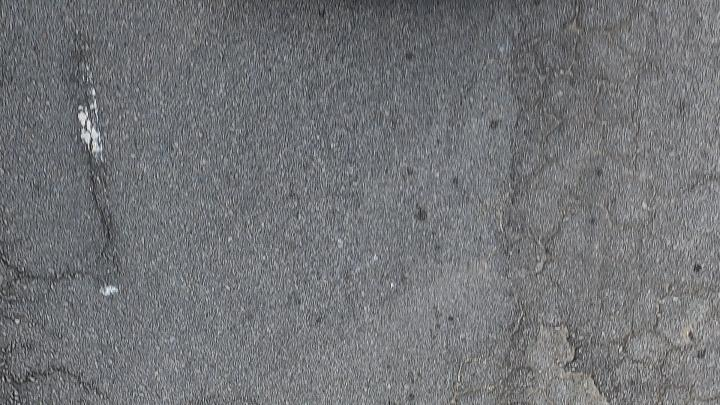Crack: (0, 34, 120, 394), (0, 37, 112, 385), (528, 0, 594, 171), (600, 301, 660, 405), (528, 200, 576, 324), (532, 206, 575, 322), (535, 1, 592, 85), (534, 79, 571, 133), (600, 337, 628, 399), (633, 299, 660, 334), (537, 135, 561, 170)
